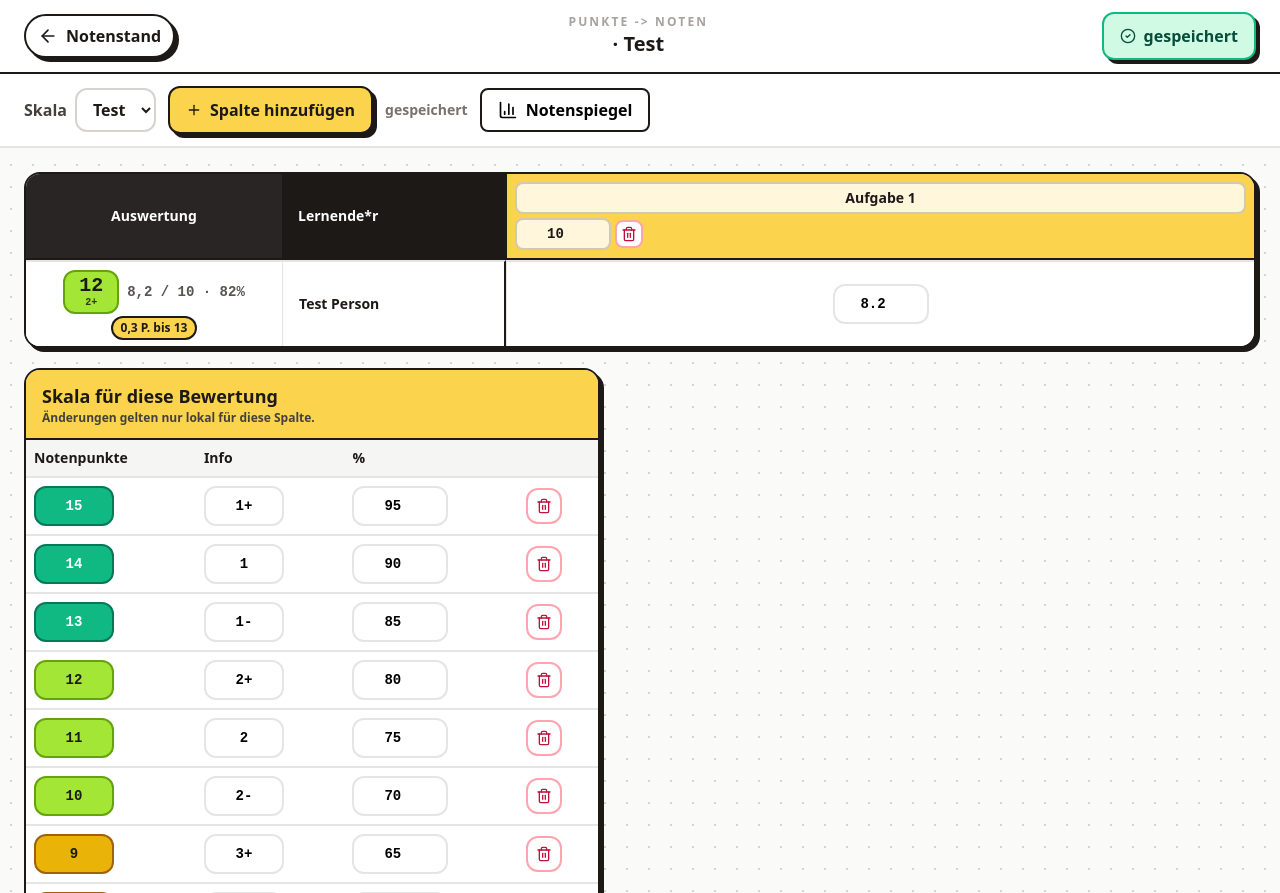
Test: toggles distribution without losing entered scores: points_0_15 / klausur
The width and height of the screenshot is (1280, 893).
Later steps or results of the test are not shown.
Click the button "Notenspiegel". click: (565, 110)
box: x1=480 y1=88 x2=650 y2=132
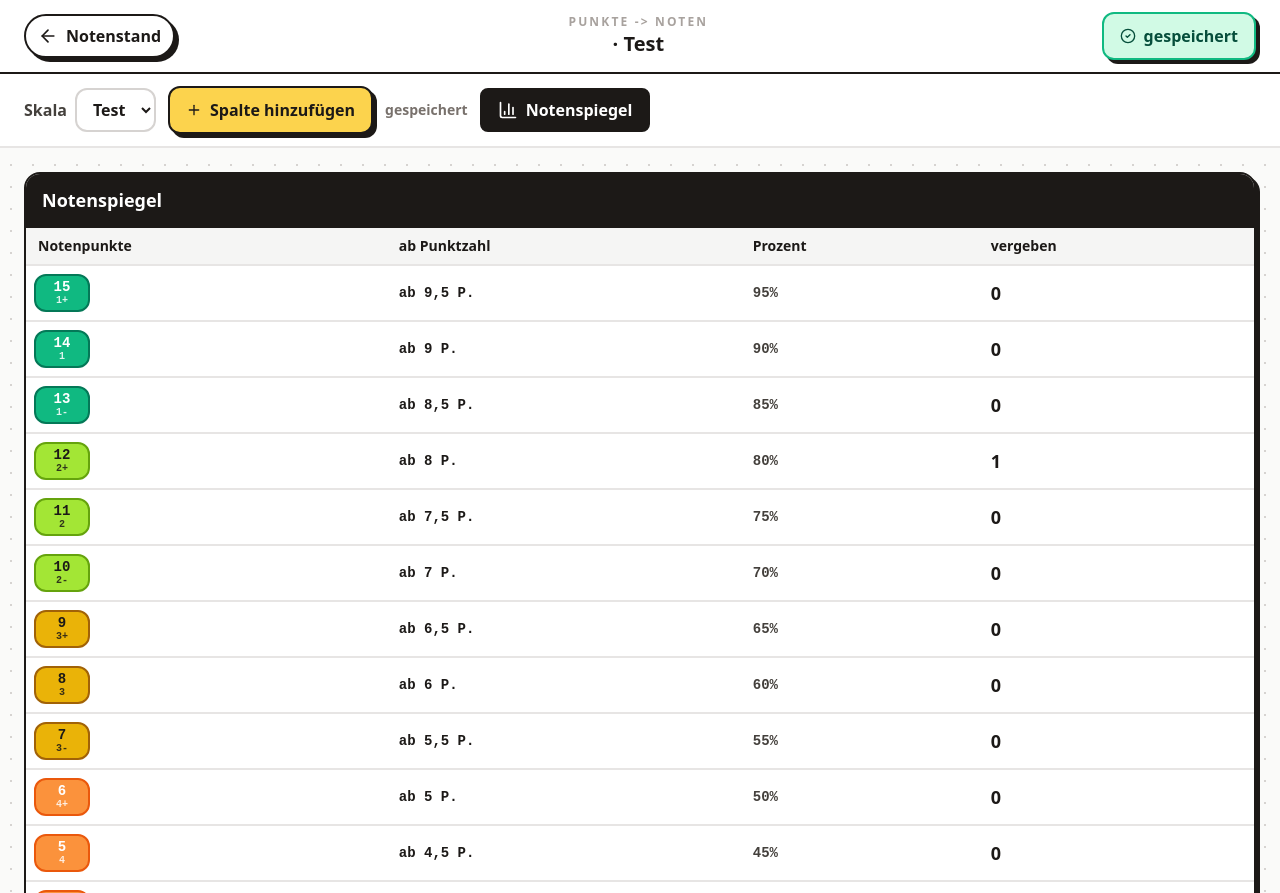
Expected: the text "12" is shown, x1=54 y1=448 x2=70 y2=462
Expected: the button "Notenspiegel" is pressed, x1=480 y1=88 x2=650 y2=132
